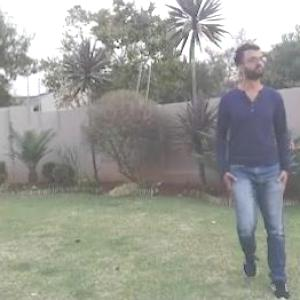follow: (210, 13, 298, 288)
